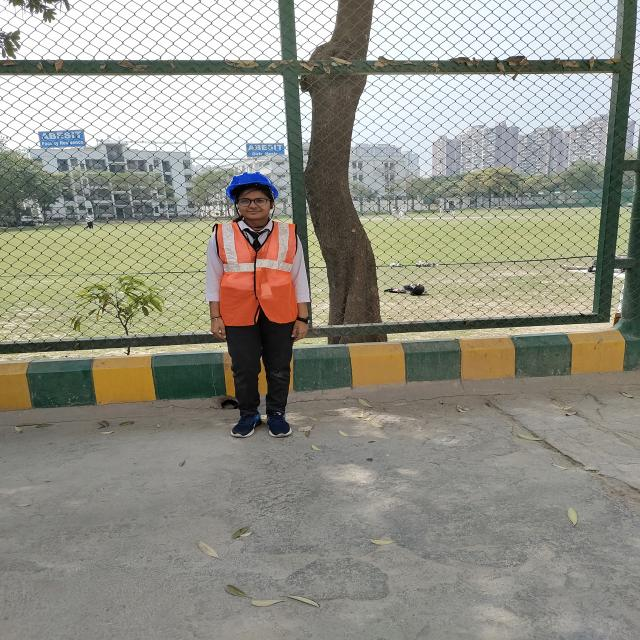safe: (206, 172, 309, 438)
